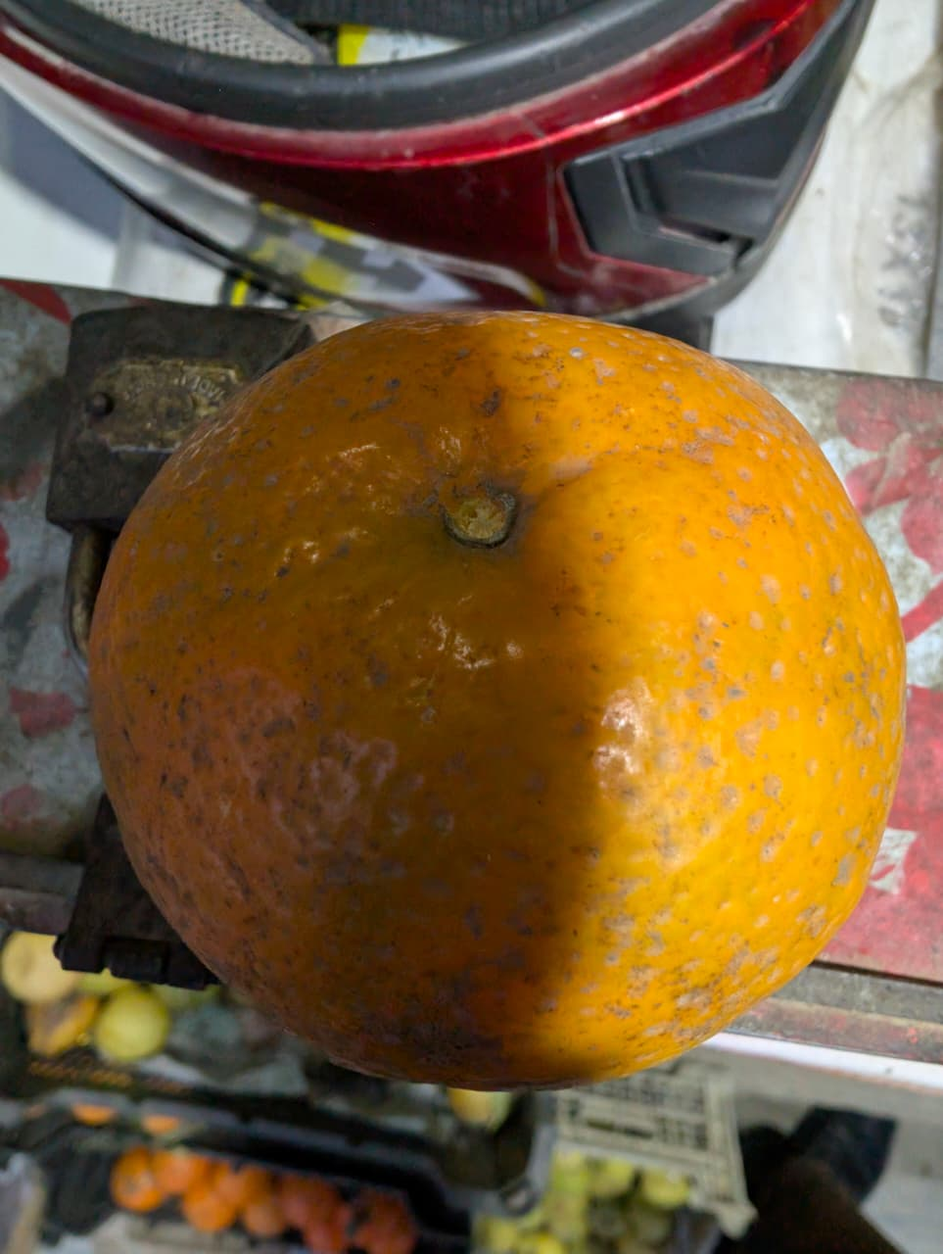orange: (0, 154, 827, 973)
